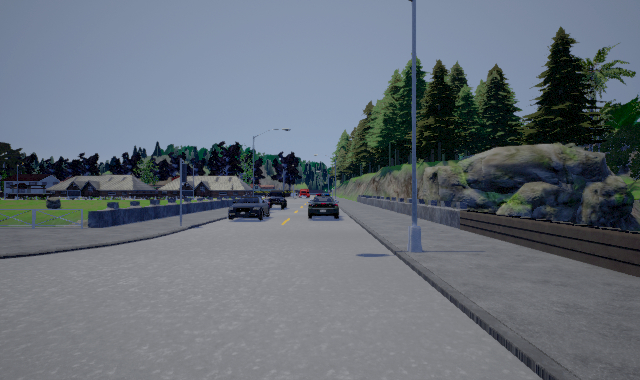vehicle: (226, 194, 269, 221), (308, 193, 339, 219), (266, 190, 288, 210)
